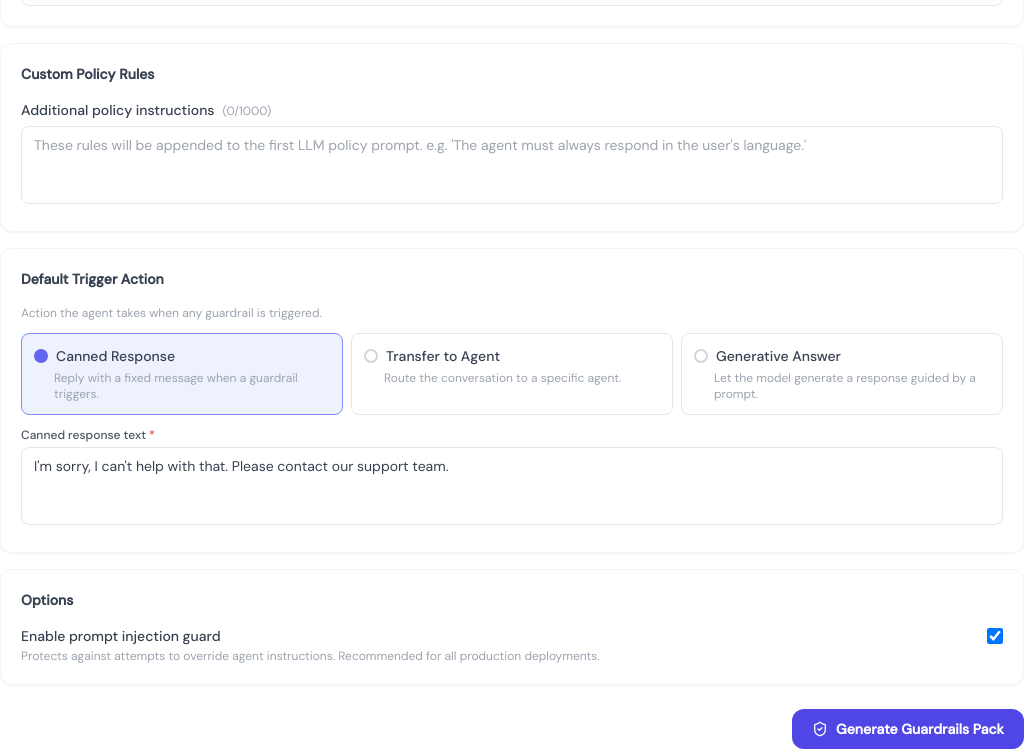
Test: GuardrailsPage — form submit transitions to preview › shows error banner on generate failure
The image size is (1024, 749).
(page scrolled)
Click the button "Generate Guardrails Pack" at (908, 729), box [792,709,1023,748]
(page scrolled)
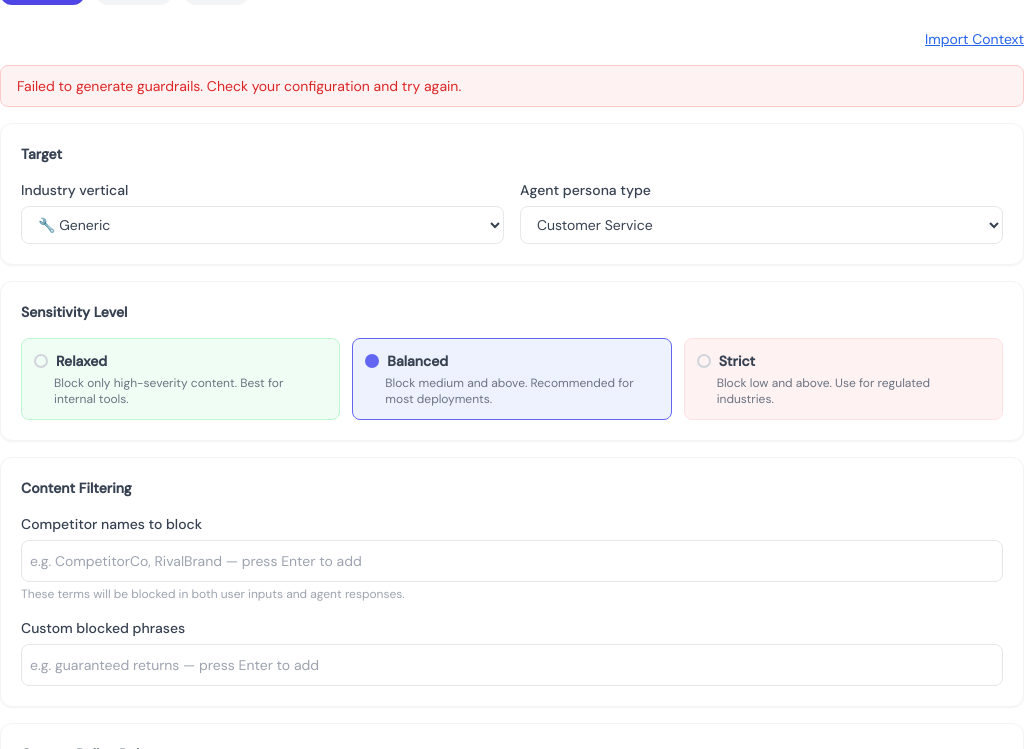
Check: the text "Failed to generate guardrails" is shown, box [17,77,461,95]
